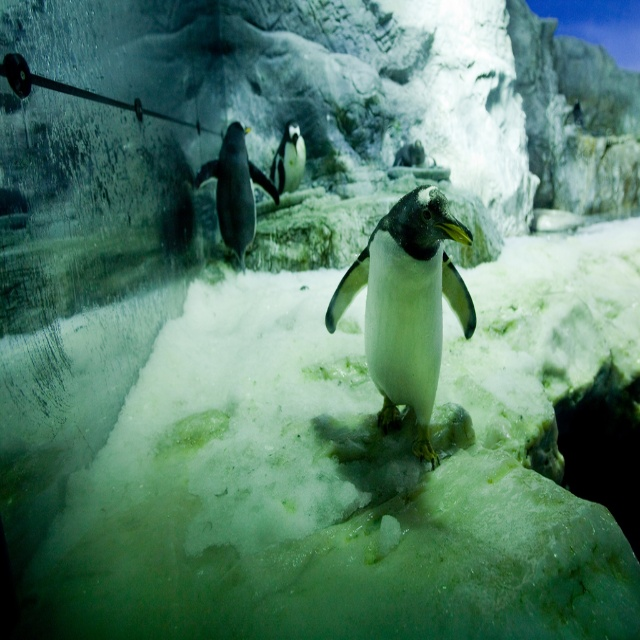Penguin: (333, 177, 483, 462), (195, 118, 281, 269), (269, 112, 306, 200)
